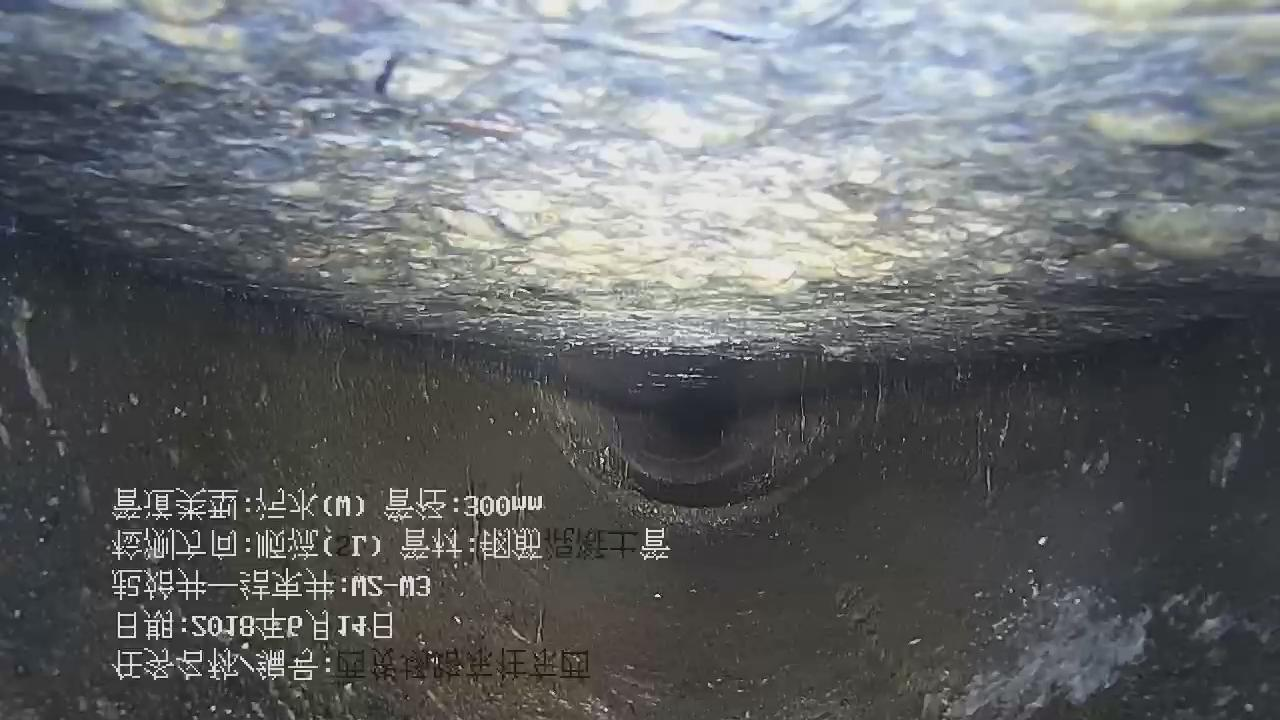CKTJ: (521, 378, 877, 531)
FZ: (0, 1, 1279, 360)
